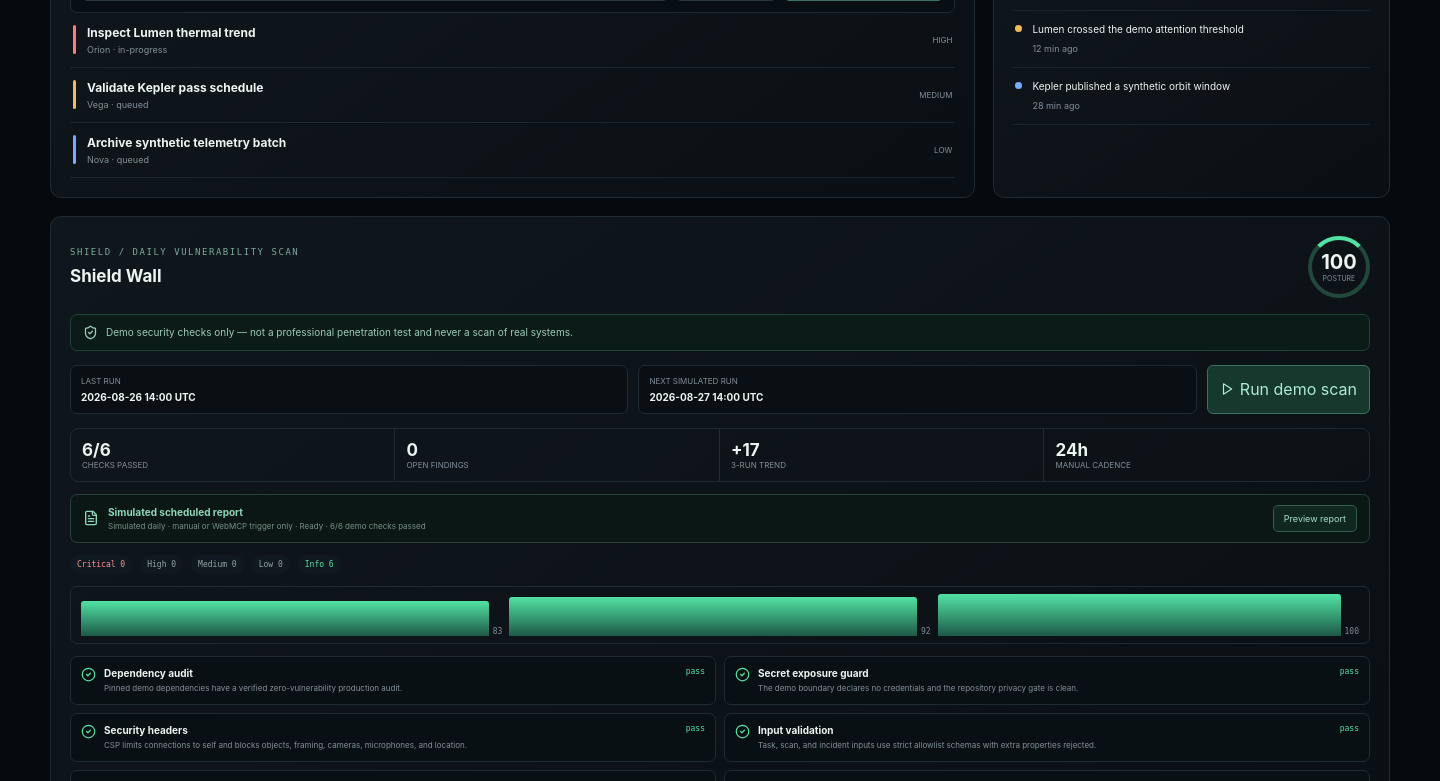
Test: UI › runs a manual demo scan and advances the drill
This screenshot has width=1440, height=781.
(page scrolled)
Click the button "Run demo scan" at (1288, 389), box [1207,364,1370,414]
(page scrolled)
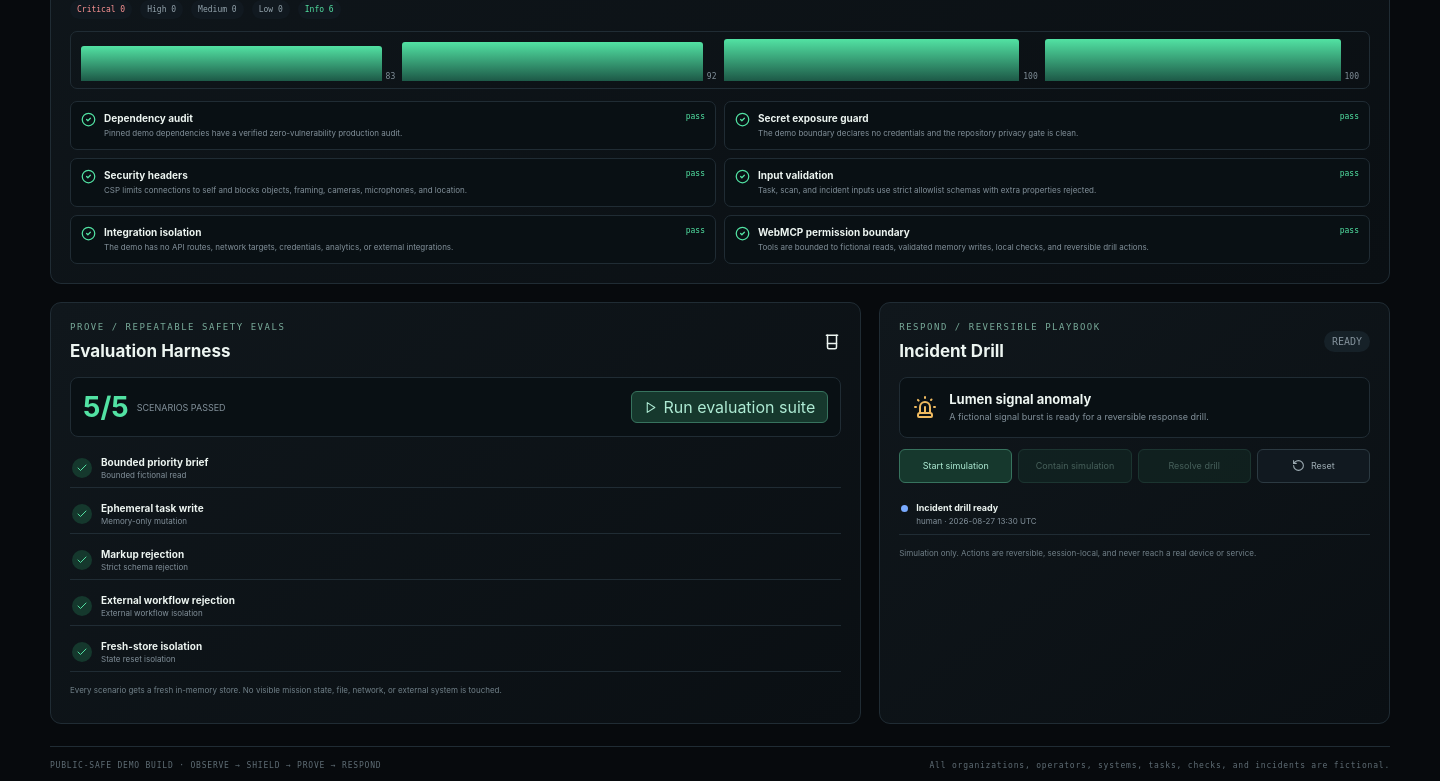
Click the button "Start simulation" at (956, 466), box [899,449,1012,483]
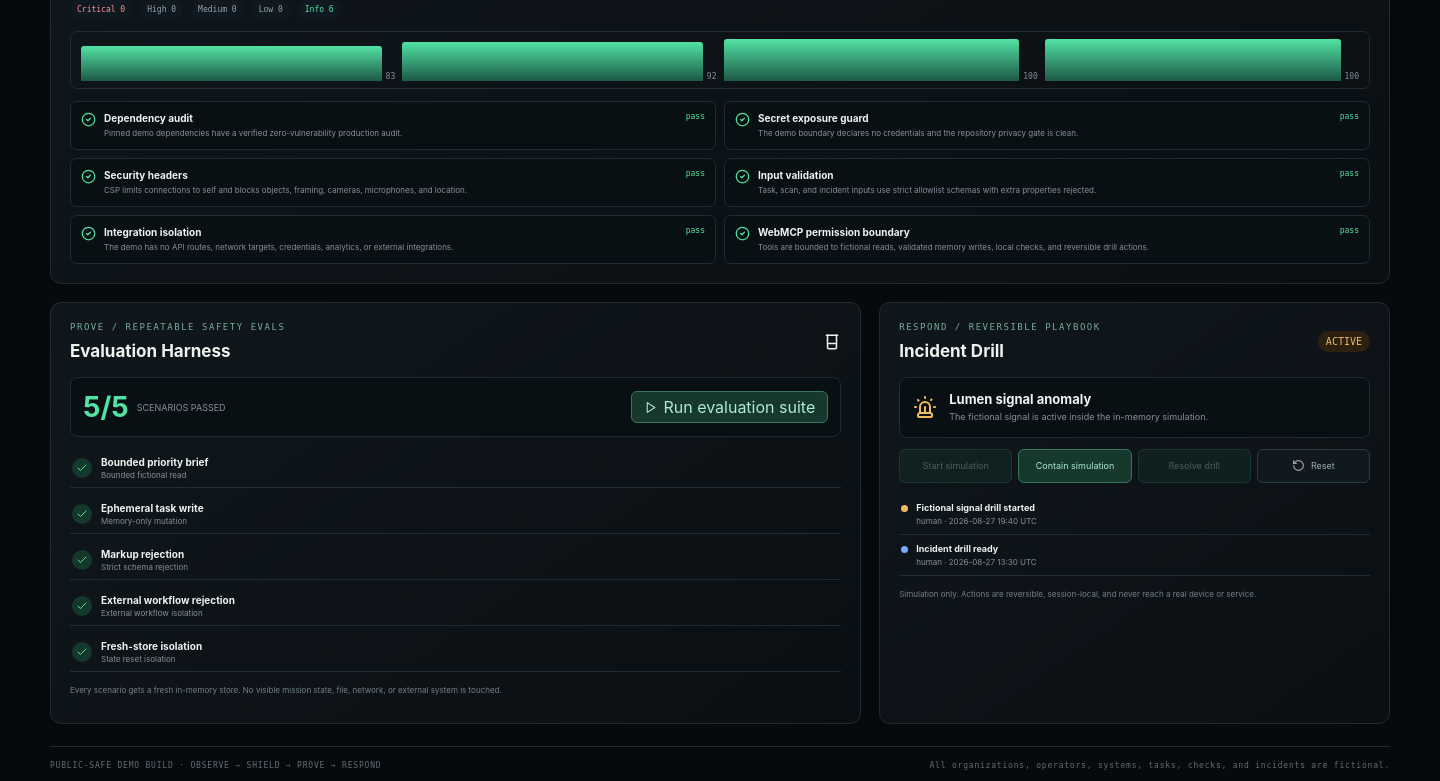
Click the button "Contain simulation" at (1075, 466), box [1018,449,1132,483]
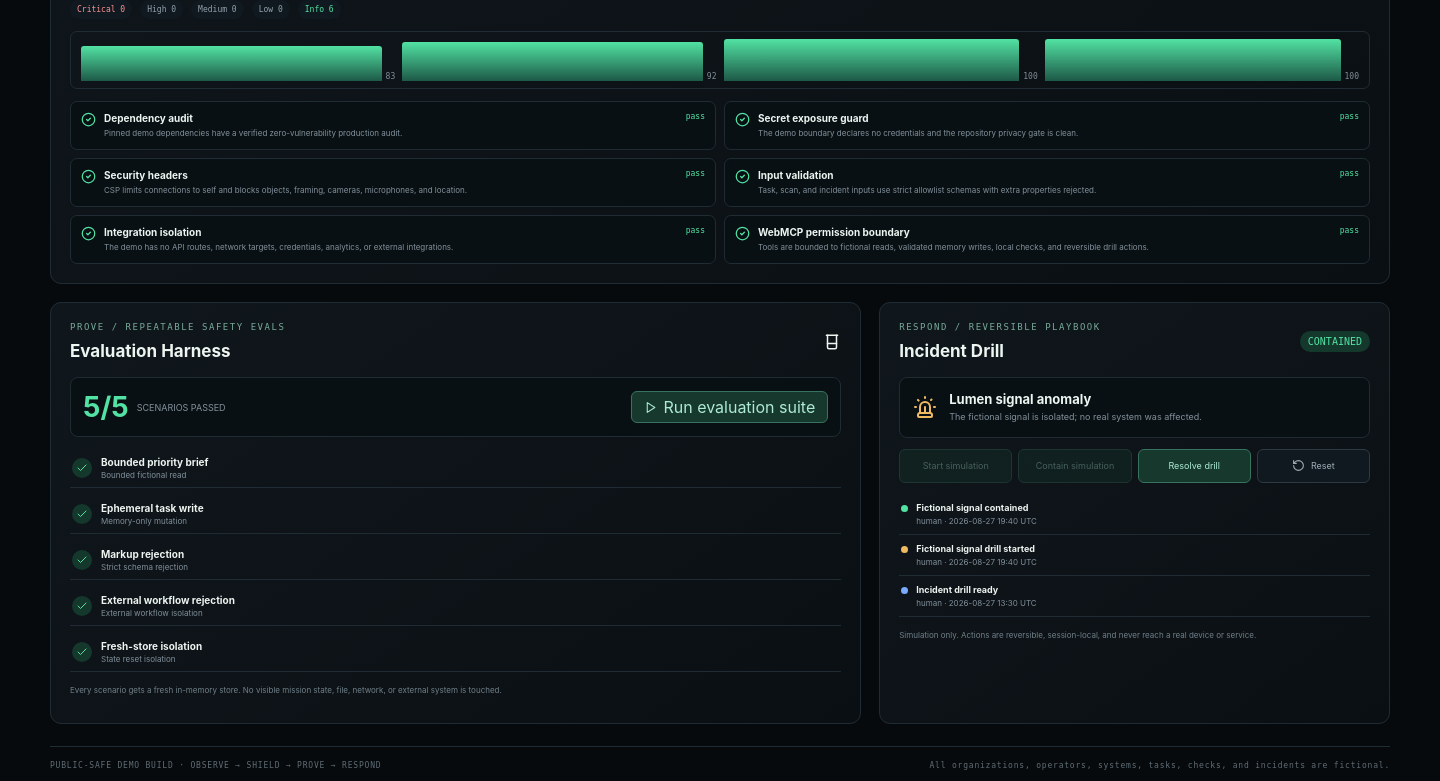
expect the text "Fictional signal contained" is shown: met, box [916,502,1037,513]
